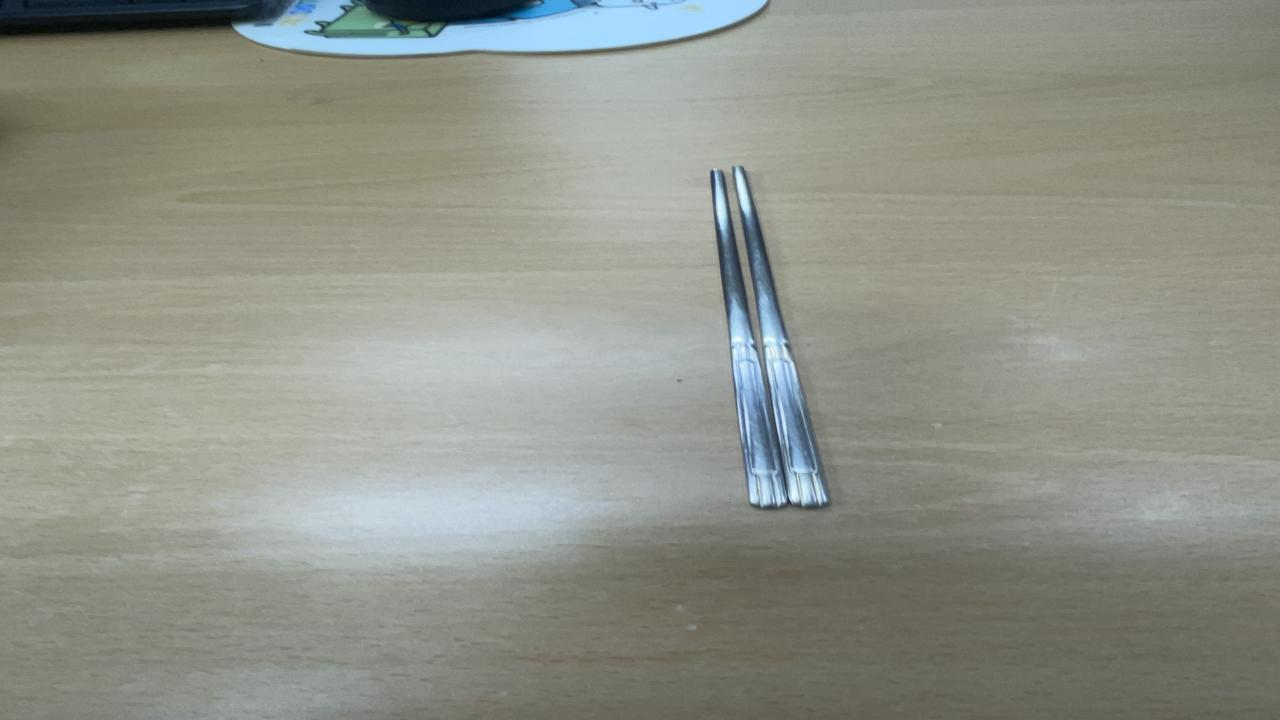chopstick: (709, 162, 830, 510)
